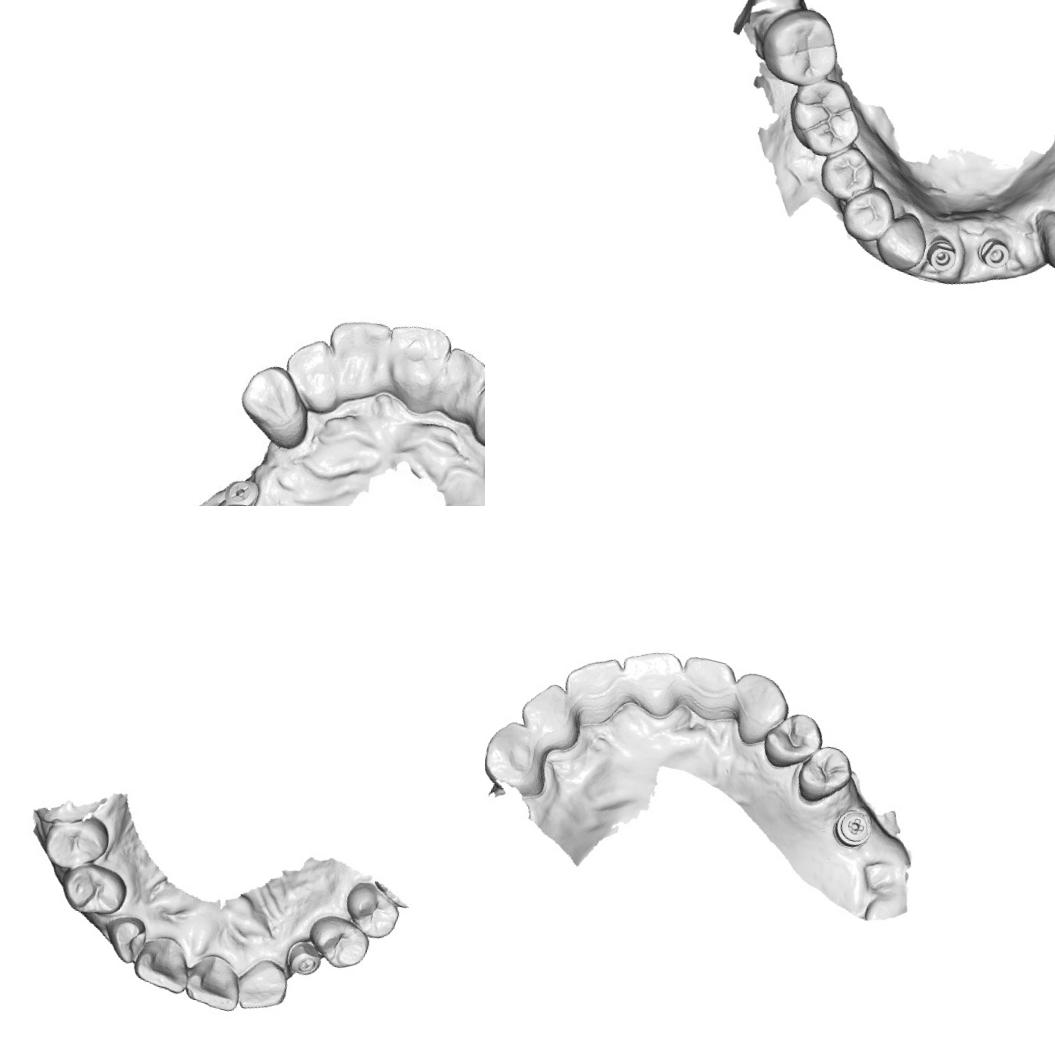canine: (229, 357, 322, 454), (718, 665, 796, 753), (485, 713, 559, 802), (870, 205, 933, 276), (1023, 204, 1055, 278), (463, 370, 485, 456)
implant: (279, 936, 324, 979), (922, 232, 962, 274), (972, 234, 1013, 272)
implant_plus: (828, 803, 876, 852), (216, 472, 264, 506)
incisor: (374, 316, 456, 407), (316, 310, 396, 402), (608, 640, 688, 724), (553, 646, 630, 731), (275, 331, 350, 415), (512, 676, 590, 753), (670, 650, 742, 727), (126, 926, 198, 999), (178, 946, 249, 1016), (230, 950, 294, 1018), (431, 343, 485, 422), (100, 910, 147, 968)
molar: (753, 0, 848, 94), (778, 70, 872, 164)
premolar: (38, 805, 113, 880), (756, 704, 829, 778), (54, 853, 131, 923), (791, 737, 858, 812), (335, 877, 407, 945), (834, 179, 902, 249), (812, 139, 880, 207), (302, 910, 374, 974)
